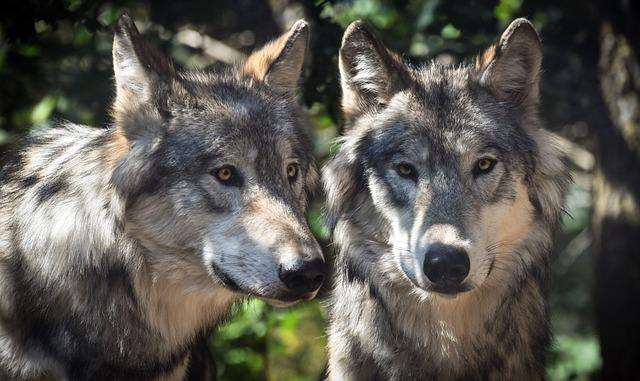Non_Gorille: (12, 4, 624, 381)
